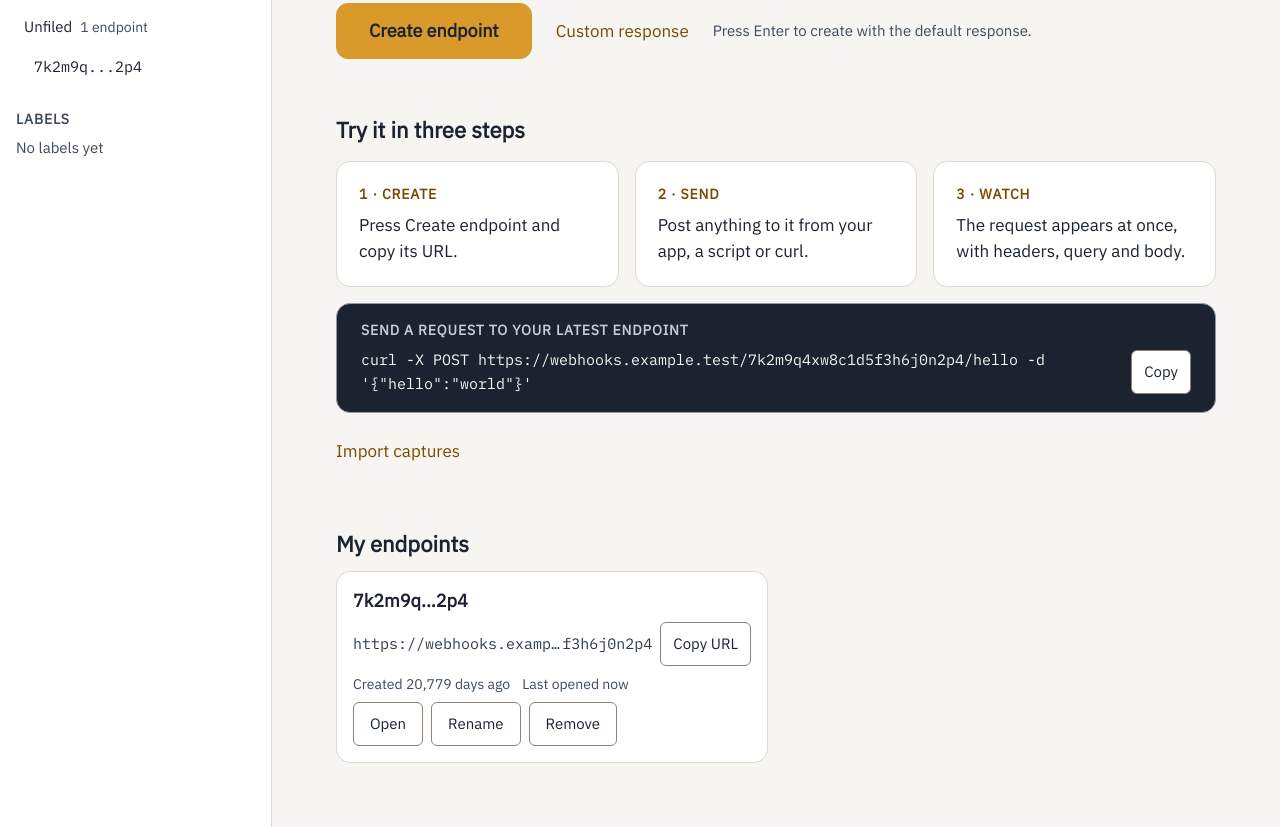
Scenario: home screen › lists remembered endpoints and saves an inline label
The width and height of the screenshot is (1280, 827).
(page scrolled)
Click the button "Rename".
click(476, 724)  # box 431,702 -> 521,746
(page scrolled)
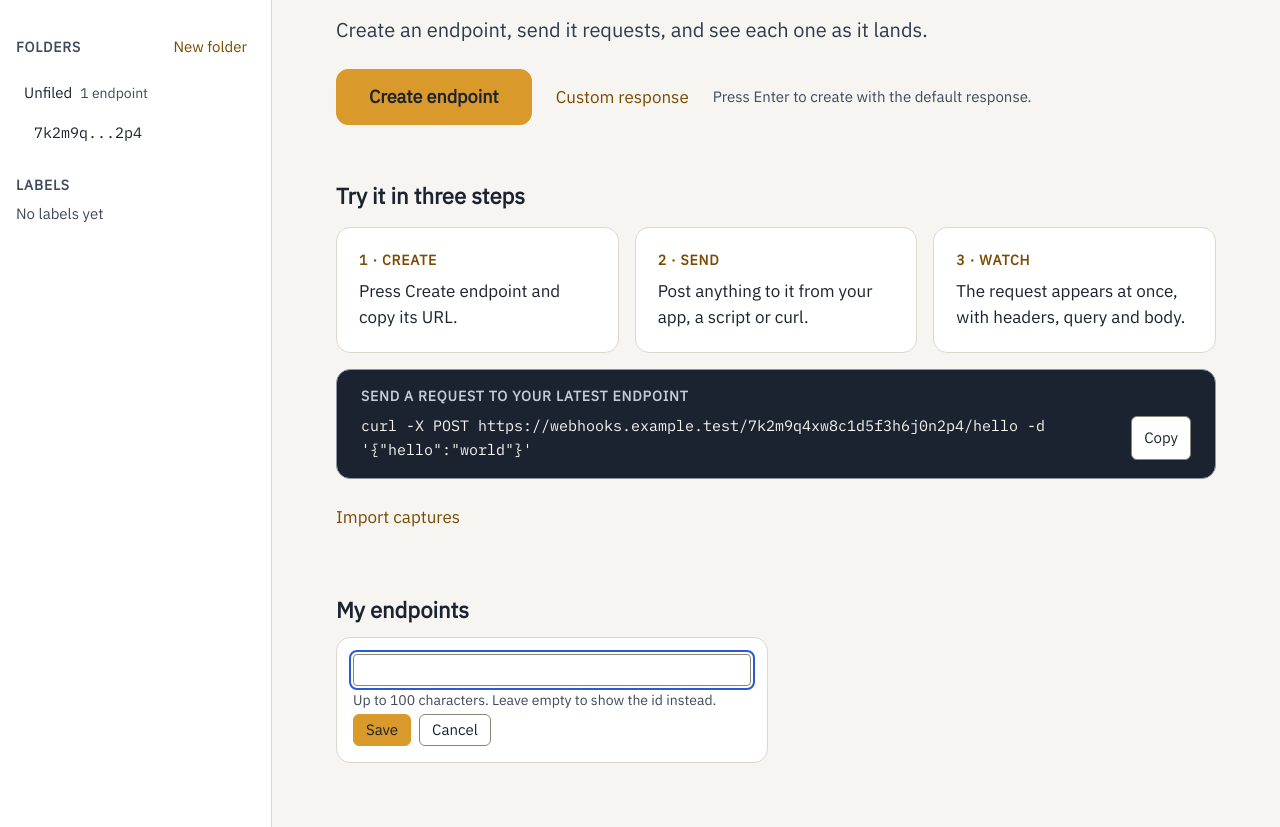
Type "stripe-dev" into the field named "Label for 7k2m9q...2p4".
click(552, 670); type("stripe-dev")  # box 353,654 -> 751,686
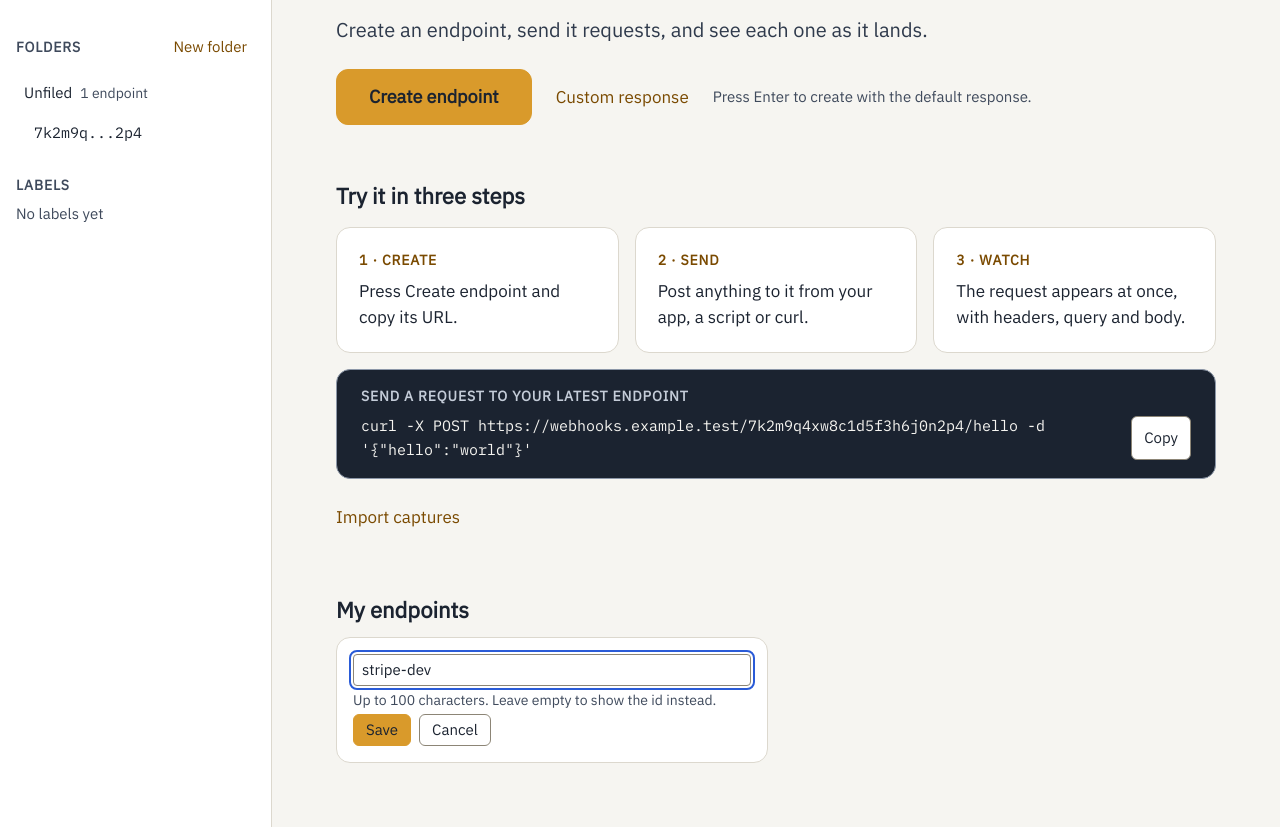
Click the button "Save".
click(382, 730)  # box 353,714 -> 411,746
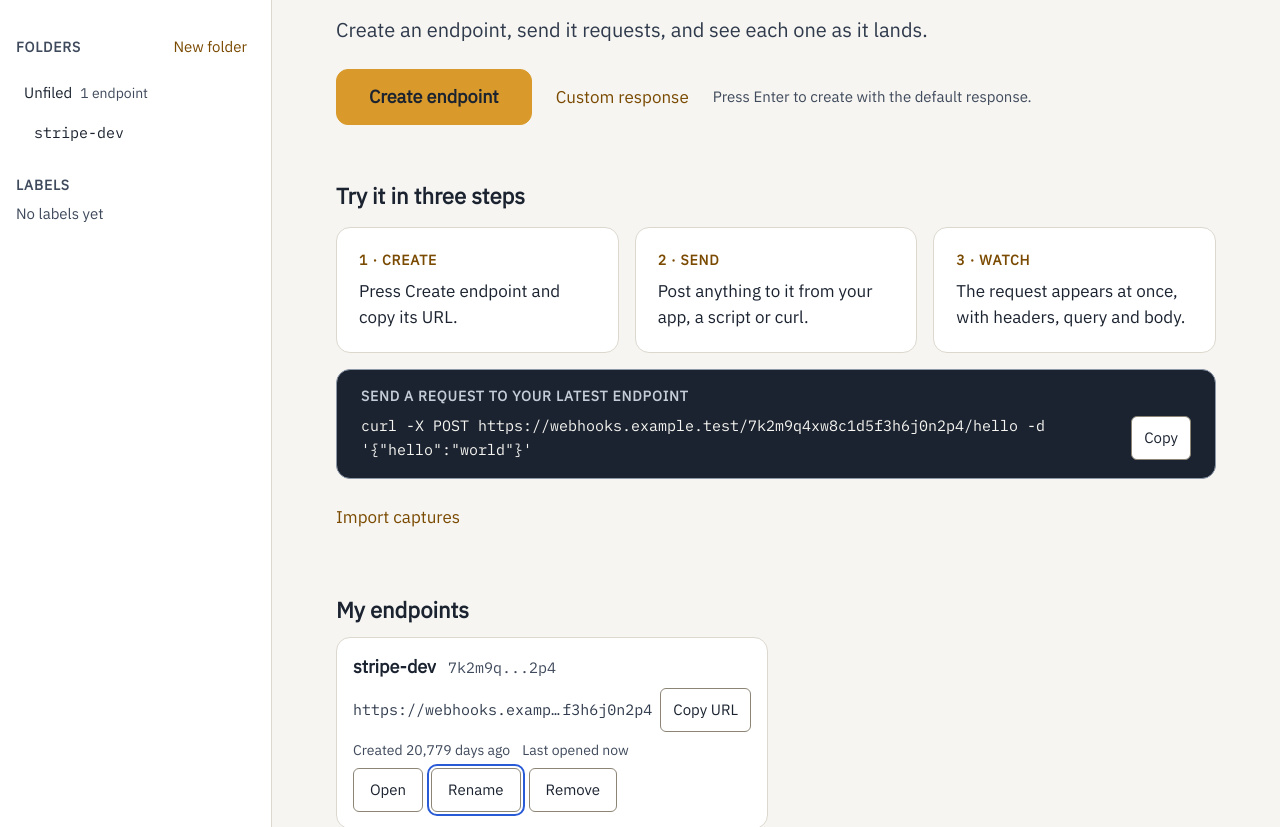
Now the text "stripe-dev" next to "7k2m9q...2p4" is shown, box 353,655 -> 436,678
Now the text "stripe-dev" below "Folders" is shown, box 34,123 -> 124,142
Now the button "Rename" is shown, box 431,768 -> 521,812
